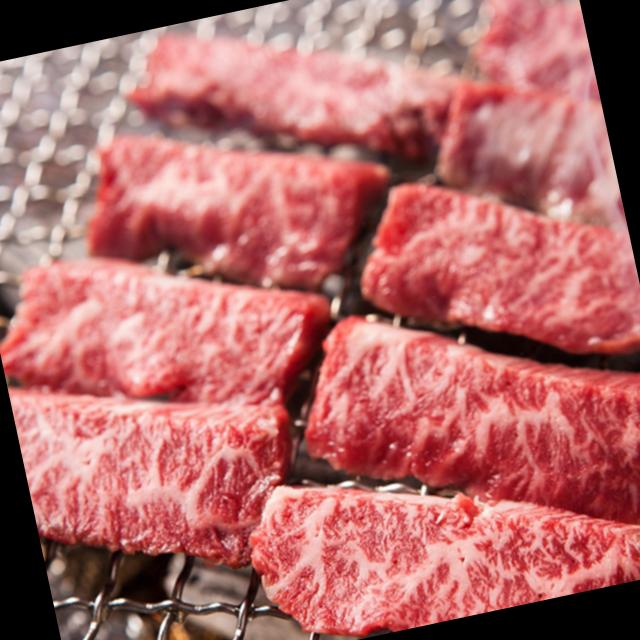beef: (271, 422, 622, 640), (330, 258, 640, 477), (26, 352, 293, 562)
